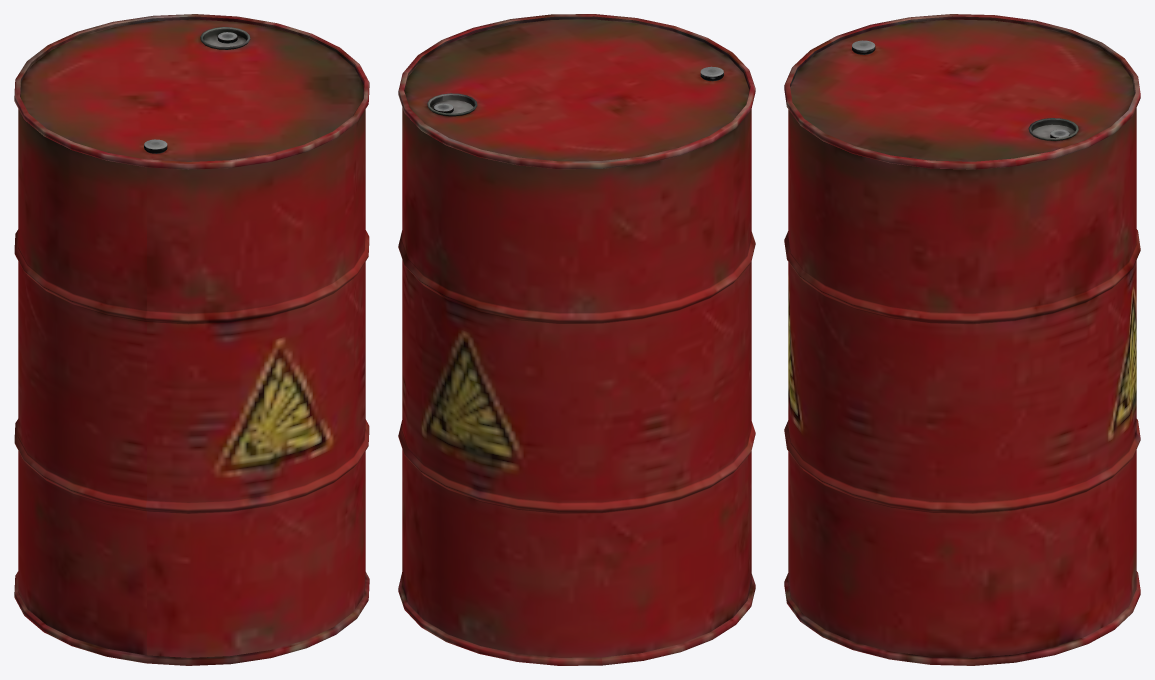
File: barrel.glb
3 renders of one model, left to right at view 1: azimuth 30°, elevation 25°; view 2: azimuth 150°, elevation 25°; view 3: azimuth 270°, elevation 25°, orthographic.
Visible parts, largest first — view 1: Barrel_01; view 2: Barrel_01; view 3: Barrel_01.
Boxes of the visible parts, x1,y1,x2,y2 form: Barrel_01: [14, 14, 369, 665]; Barrel_01: [398, 14, 755, 665]; Barrel_01: [784, 14, 1140, 665].
Size of the model in its own units: 0.5631 by 0.88 by 0.5631.
Materials: 1 (1 with a texture image).
